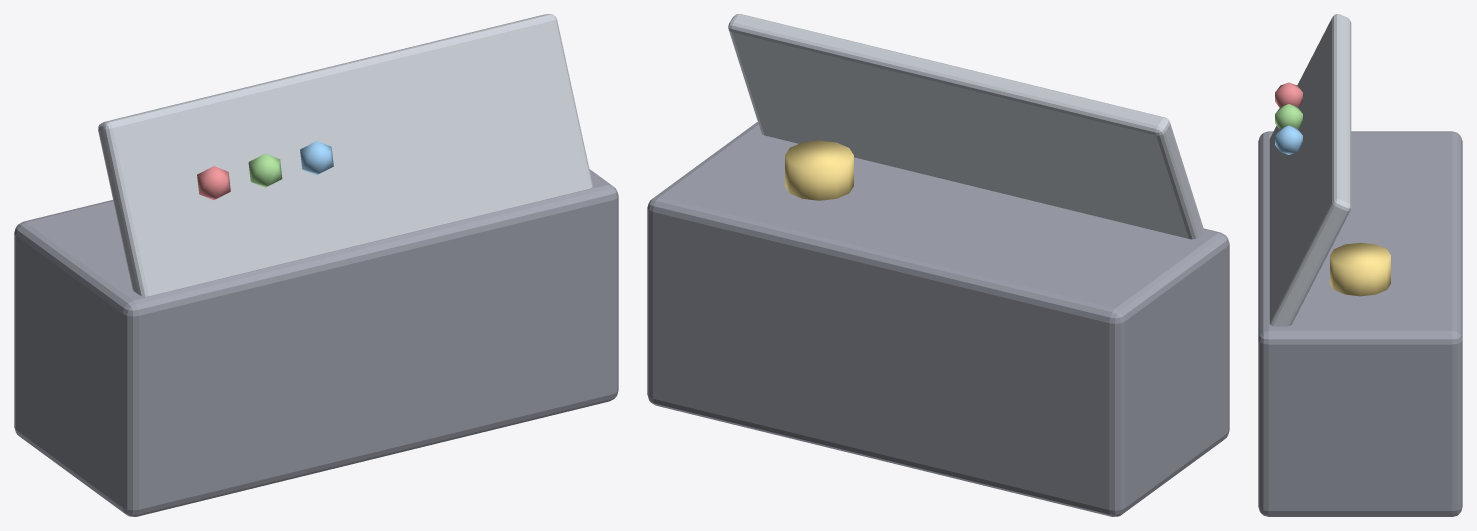
File: fx_lever.glb
3 views of the same model, side by side, from view 1: azimuth 30°, elevation 25°; view 2: azimuth 150°, elevation 25°; view 3: azimuth 270°, elevation 25° (orthographic). The views are drawn at different scales.
Parts seen in each view (by area): view 1: fx_lever; view 2: fx_lever; view 3: fx_lever.
Part boxes in pixels (box(x1,y1,x2,y2)): fx_lever: box(14, 14, 618, 516); fx_lever: box(647, 14, 1229, 516); fx_lever: box(1258, 14, 1462, 516).
Bounding box in the file's own units: 2.4 × 1.67 × 1.
